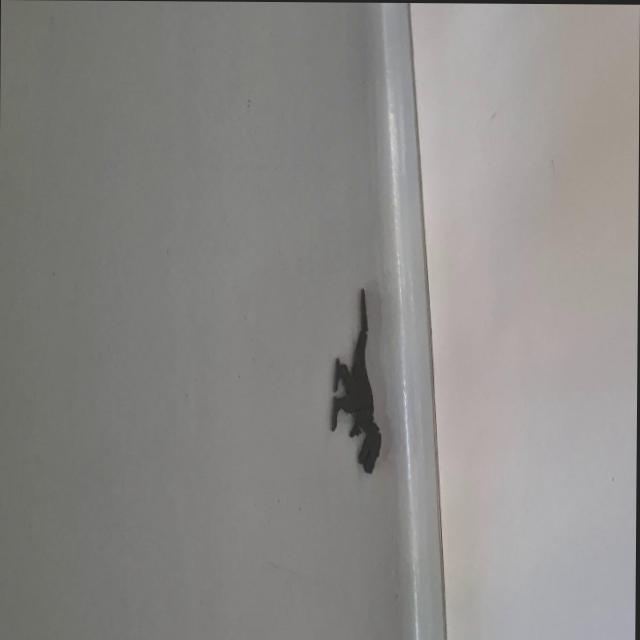dino: (329, 287, 382, 475)
